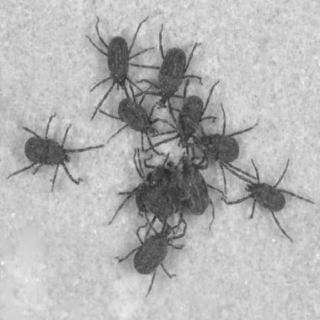other: (14, 30, 302, 302)
